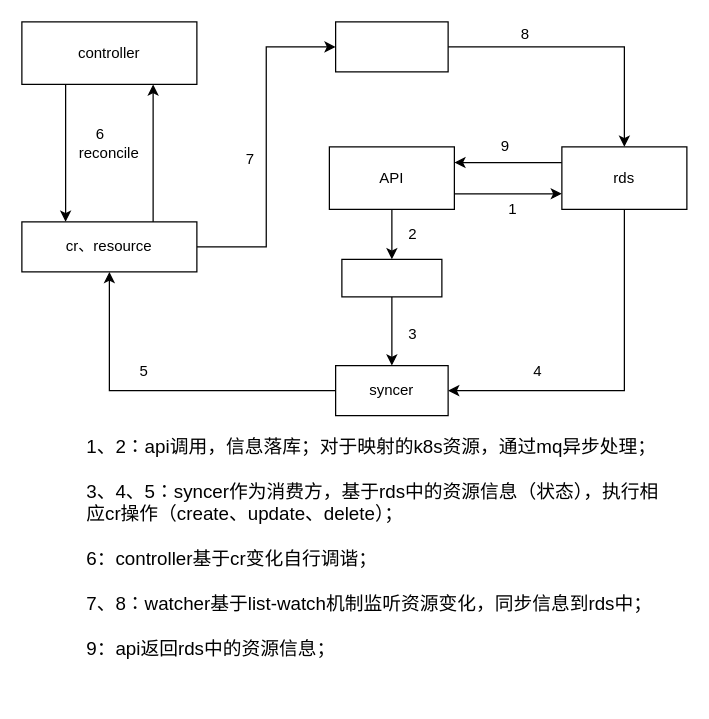
Some shapes in this 709 by 719 pixel diagram are drawn without their labels. Here are the shapes that lost their labels. From the top down, the box of each, then its label:
(334, 21, 448, 72): watcher
(341, 258, 442, 297): MQ
